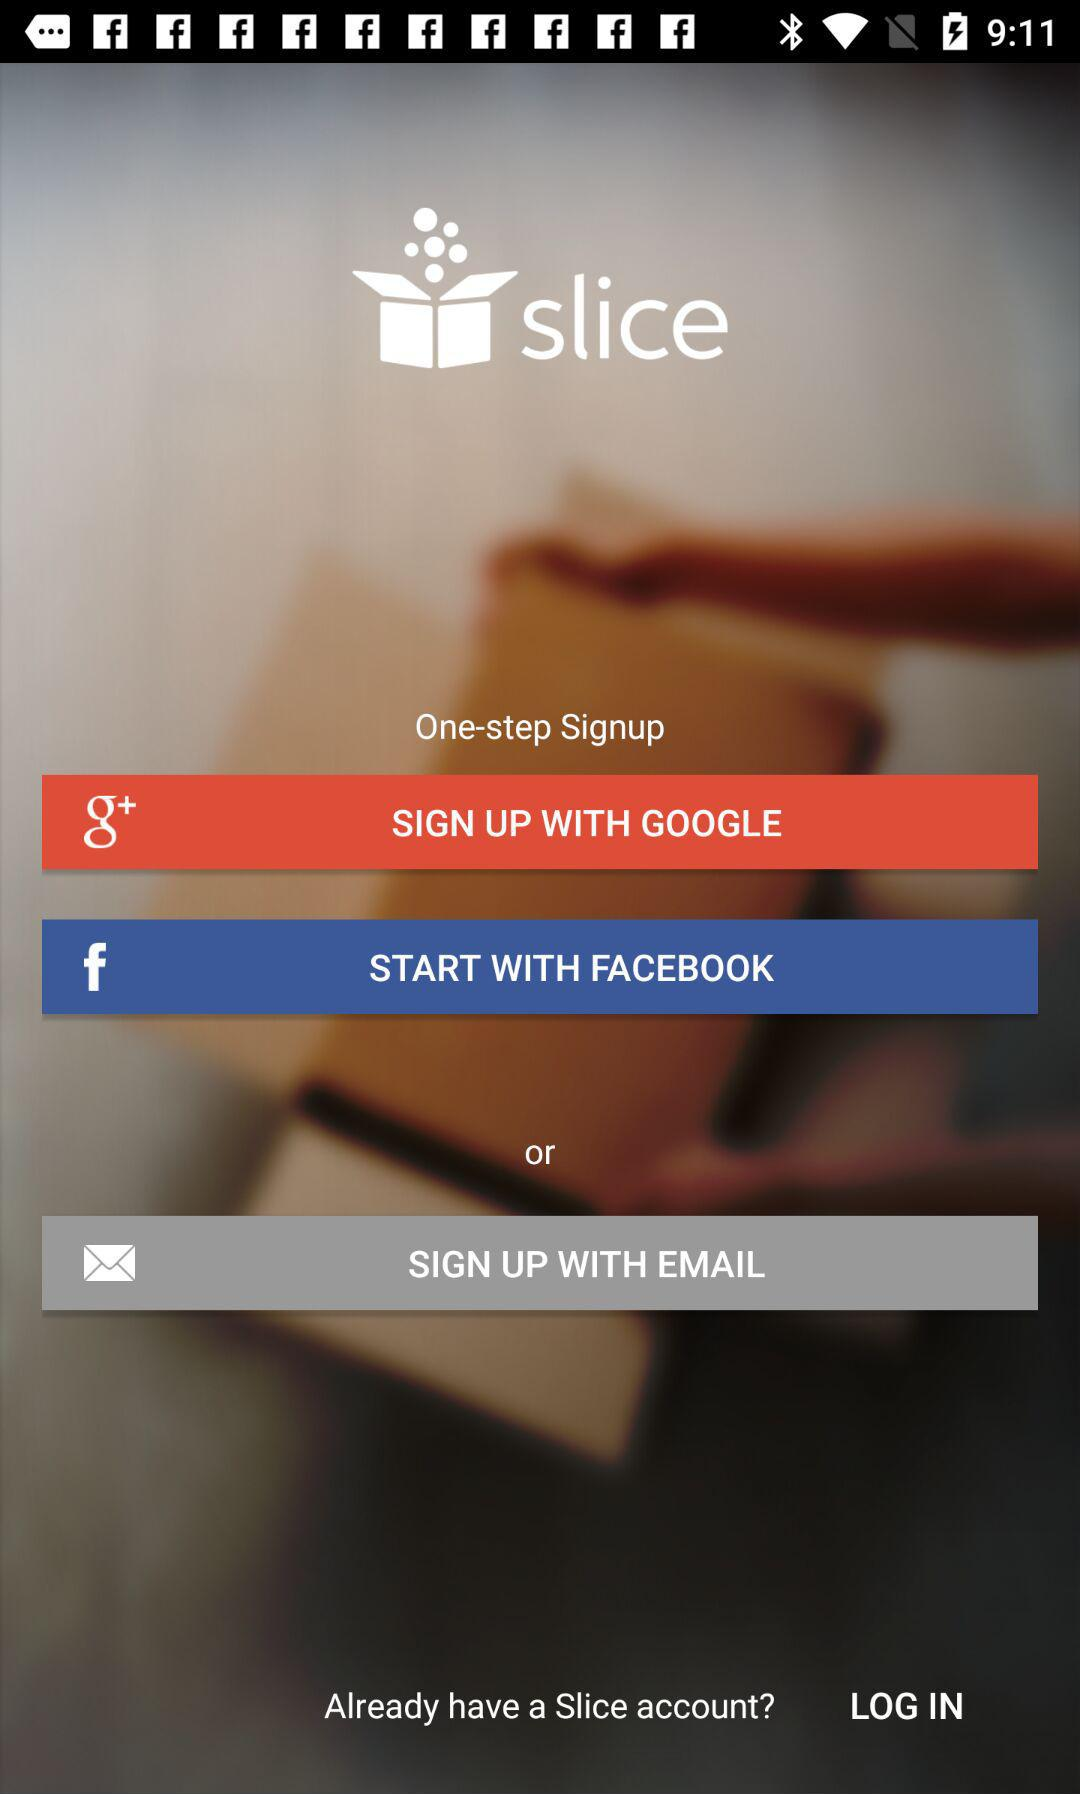Image: (352, 208, 730, 370)
Text: (324, 1691, 775, 1727), (416, 712, 666, 750), (851, 1691, 963, 1721), (527, 1144, 556, 1167)
TextButton: (42, 775, 1038, 870), (44, 920, 1039, 1015), (42, 1216, 1038, 1311)
UpperTaskBar: (1, 1, 1080, 64)
